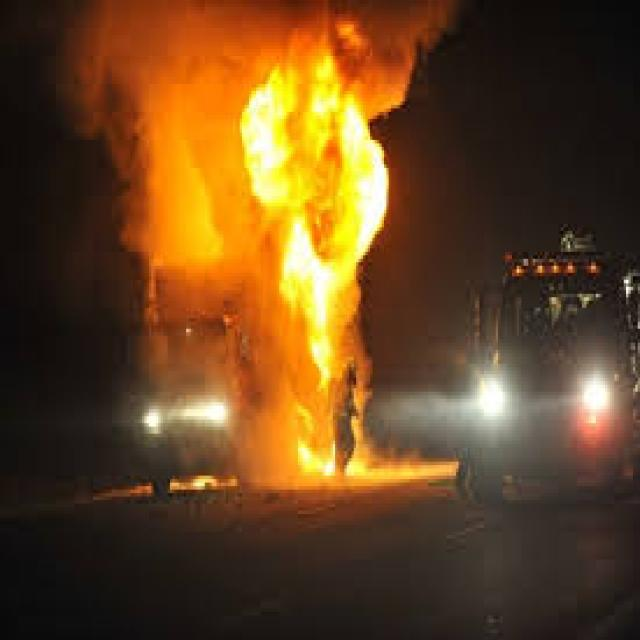Fire: (238, 51, 408, 528)
Smoke: (52, 16, 144, 234)
